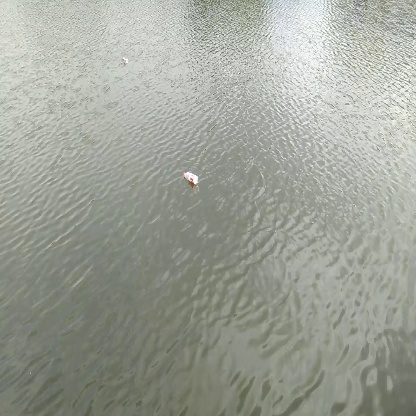bottle: (180, 167, 203, 189)
